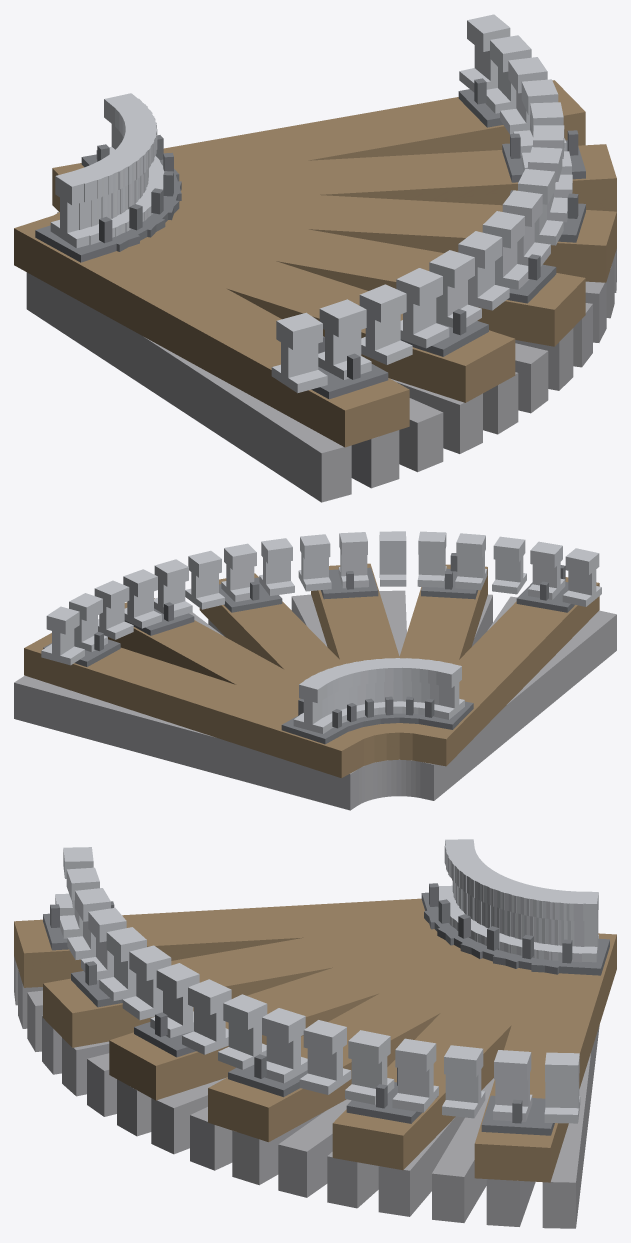
The model's file is rail_curve_left.glb.
The picture shows the model from 3 angles, top to bottom: view 1: azimuth 30°, elevation 25°; view 2: azimuth 150°, elevation 25°; view 3: azimuth 270°, elevation 25°; orthographic projection. The views are drawn at different scales.
Visible parts, largest first — view 1: rail; view 2: rail; view 3: rail.
Boxes of the visible parts, left/top/right/bottom form: rail: left=14, top=14, right=616, bottom=502; rail: left=14, top=531, right=616, bottom=810; rail: left=14, top=839, right=616, bottom=1228.
Bounding box in the file's own units: 0.9466 × 0.247 × 0.9466.
